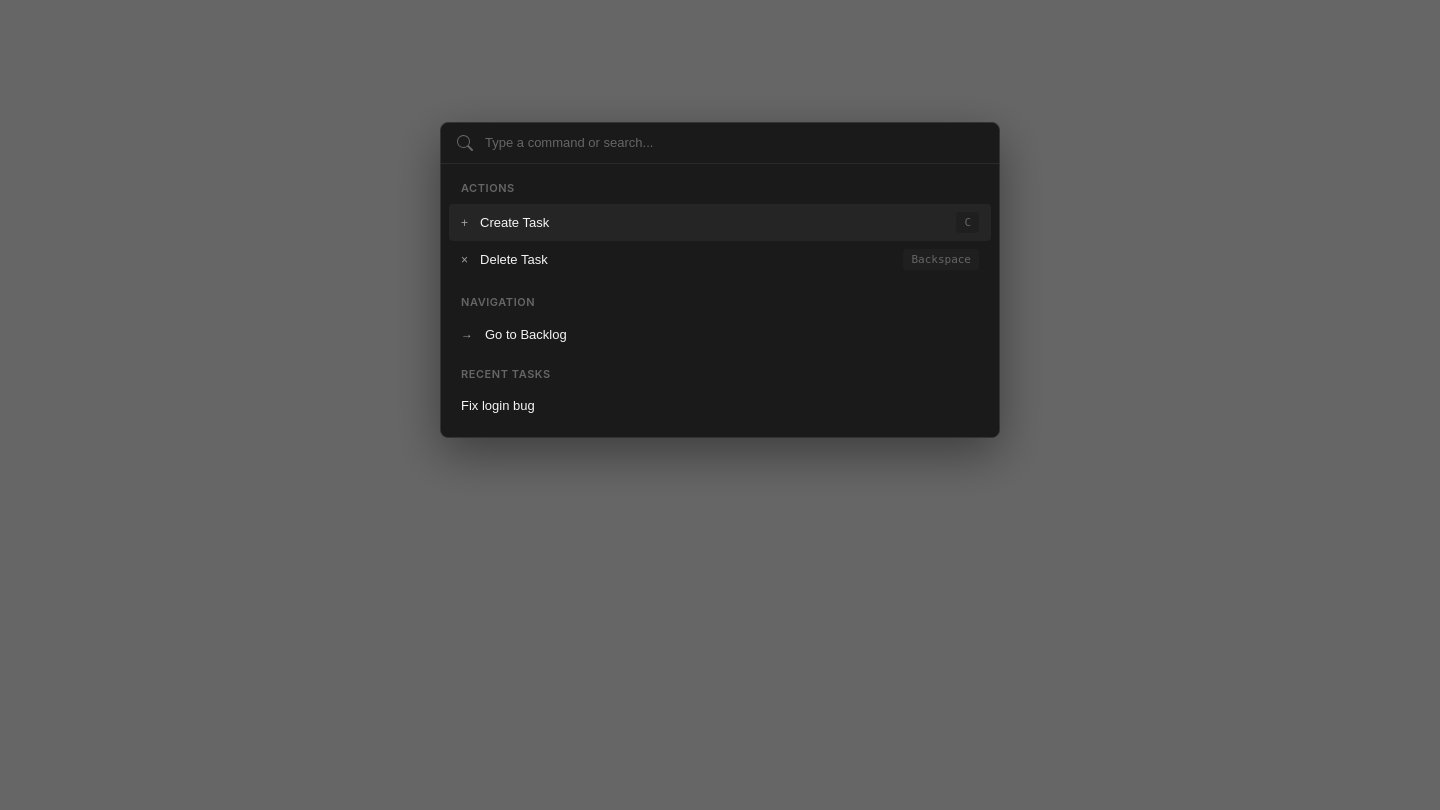
Test case: CommandPalette › filters commands by search query (fuzzy matching)
Type "crt" into the field with placeholder "Type a command or search..." at (734, 142), box x1=485 y1=135 x2=983 y2=150
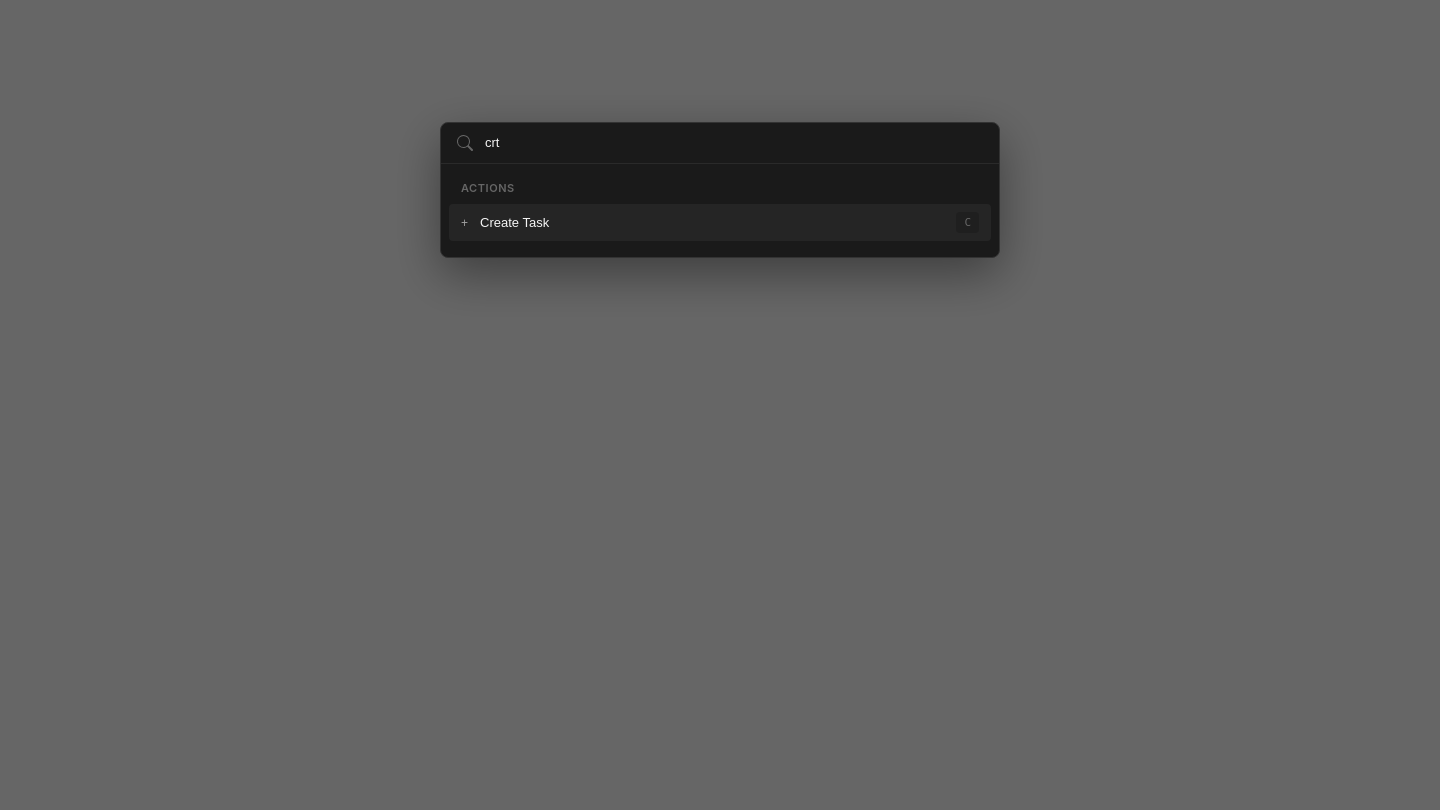
Check: the text "Create Task" is shown, box x1=480 y1=215 x2=549 y2=230
Check: the button "Delete Task" is gone
